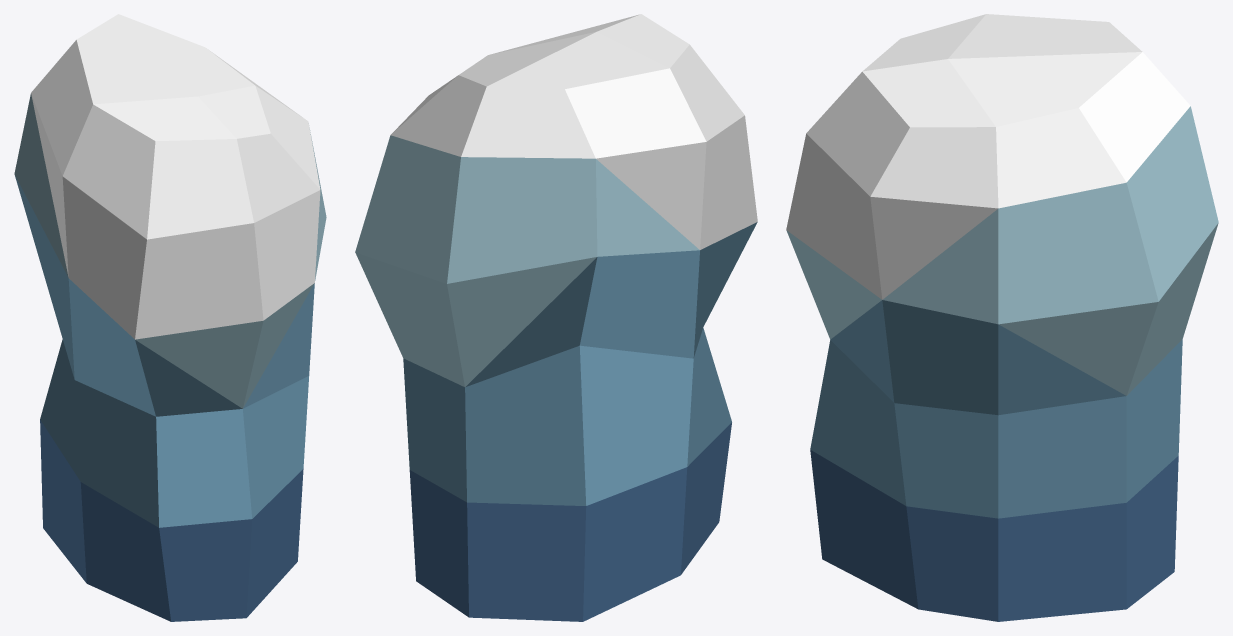
File: rockSmall1.fbx
3 views of the same model, side by side, from view 1: azimuth 30°, elevation 25°; view 2: azimuth 150°, elevation 25°; view 3: azimuth 270°, elevation 25° (orthographic). The views are drawn at different scales.
Parts seen in each view (by area): view 1: mesh; view 2: mesh; view 3: mesh.
Boxes of the visible parts, left/top/right/bottom form: mesh: left=14, top=14, right=326, bottom=621; mesh: left=355, top=14, right=757, bottom=621; mesh: left=786, top=14, right=1218, bottom=621.
Size of the model in its own units: 178 by 306 by 231.
1 material, 1 textured.
